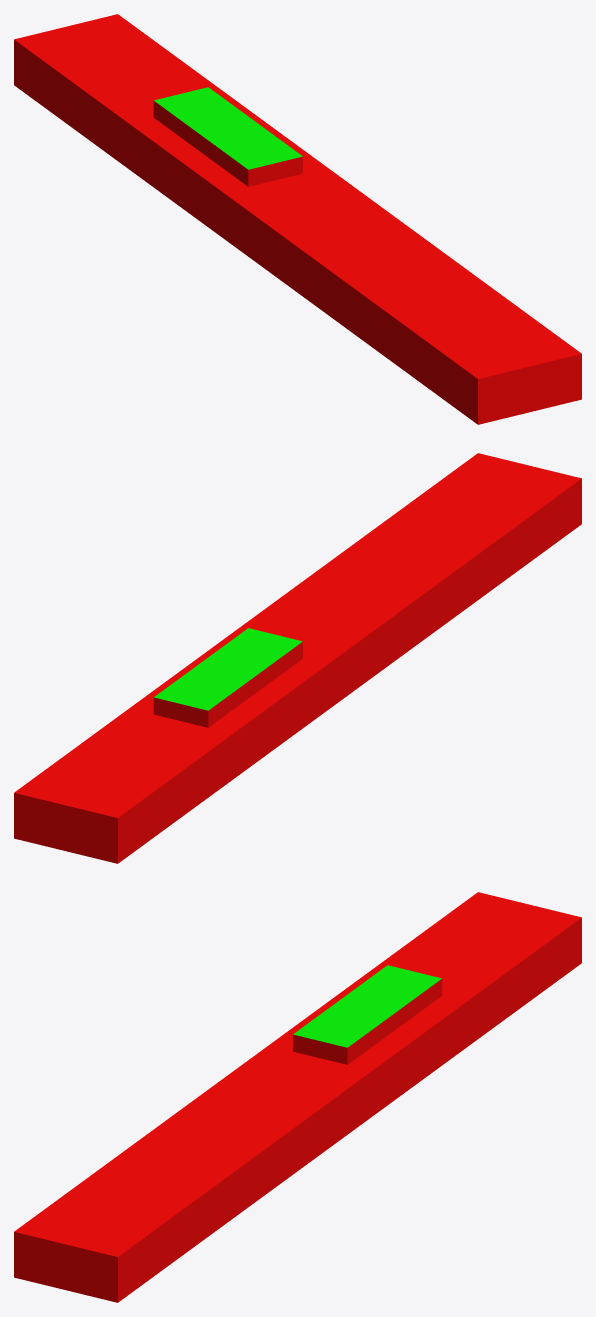
Rendered from labeled.obj.
3 views of the same model, one above another, from view 1: azimuth 30°, elevation 25°; view 2: azimuth 150°, elevation 25°; view 3: azimuth 330°, elevation 25° (orthographic).
Bounding box in the file's own units: 0.019 × 0.011 × 0.147.
